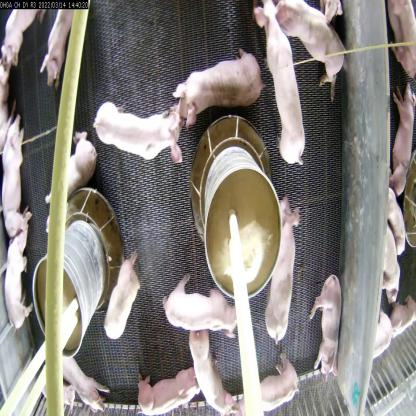Pig: (247, 0, 311, 163), (172, 44, 266, 136), (276, 0, 355, 93), (95, 95, 182, 169), (267, 196, 303, 347), (186, 318, 240, 415), (162, 270, 246, 332), (44, 131, 104, 217), (0, 110, 31, 240), (101, 244, 141, 340), (239, 350, 298, 414), (4, 218, 35, 334), (133, 363, 202, 415), (316, 265, 344, 377), (58, 353, 103, 416), (0, 8, 43, 71), (41, 8, 74, 75)
